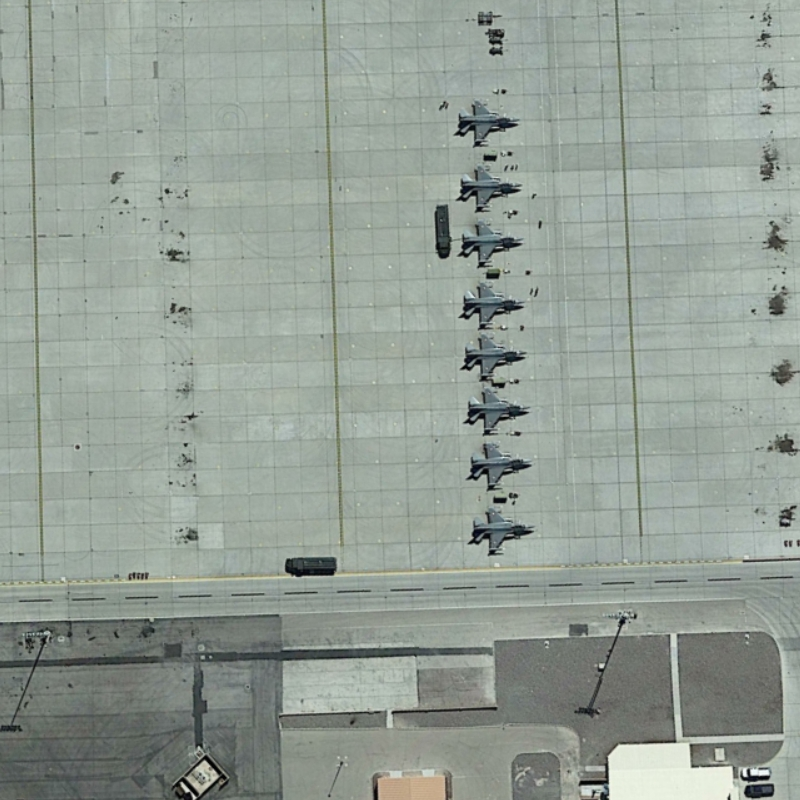A5: (463, 436, 540, 494), (455, 214, 526, 275), (453, 92, 525, 152), (459, 327, 530, 387), (452, 161, 528, 217), (456, 277, 527, 333), (468, 505, 539, 559), (465, 382, 533, 437)
